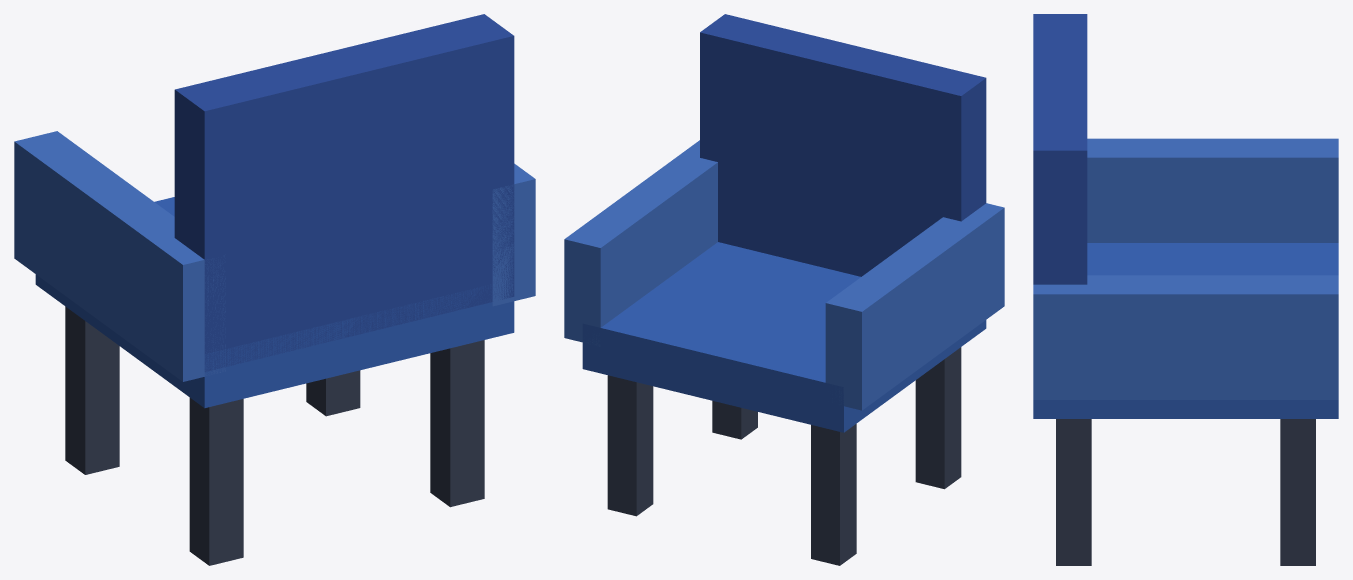
Rendered from proxy-cobalt-chair.glb.
3 renders of one model, left to right at view 1: azimuth 30°, elevation 25°; view 2: azimuth 150°, elevation 25°; view 3: azimuth 270°, elevation 25°, orthographic. The views are drawn at different scales.
Bounding box in the file's own units: 0.82 × 1.04 × 0.68.
